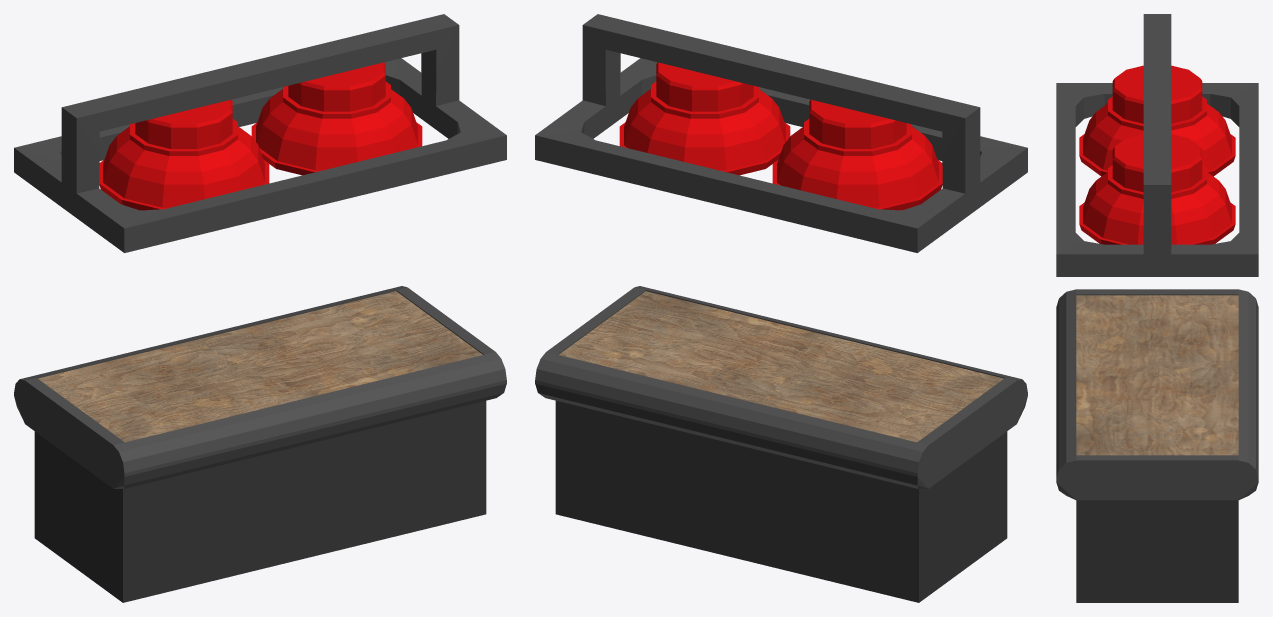
The model's file is ServingCounter.fbx.
The picture shows the model from 3 angles, left to right: view 1: azimuth 30°, elevation 25°; view 2: azimuth 150°, elevation 25°; view 3: azimuth 270°, elevation 25°; orthographic projection. The views are drawn at different scales.
Visible parts, largest first — view 1: ServingCounter; view 2: ServingCounter; view 3: ServingCounter.
Boxes of the visible parts, x1=… form: ServingCounter: x1=14, y1=14, x2=506, y2=602; ServingCounter: x1=535, y1=14, x2=1027, y2=602; ServingCounter: x1=1056, y1=14, x2=1258, y2=602.
Bounding box in the file's own units: 200 × 230 × 100.
Materials: 5 (1 with a texture image).
